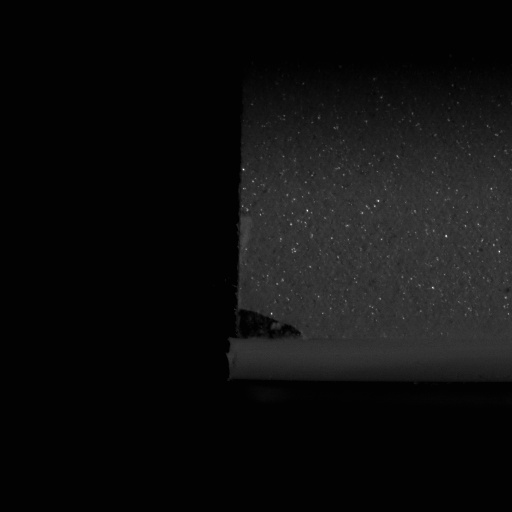bengque: (229, 307, 305, 343)
